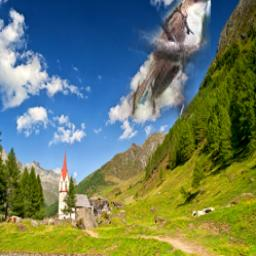Cuckoo: (118, 0, 211, 119)
